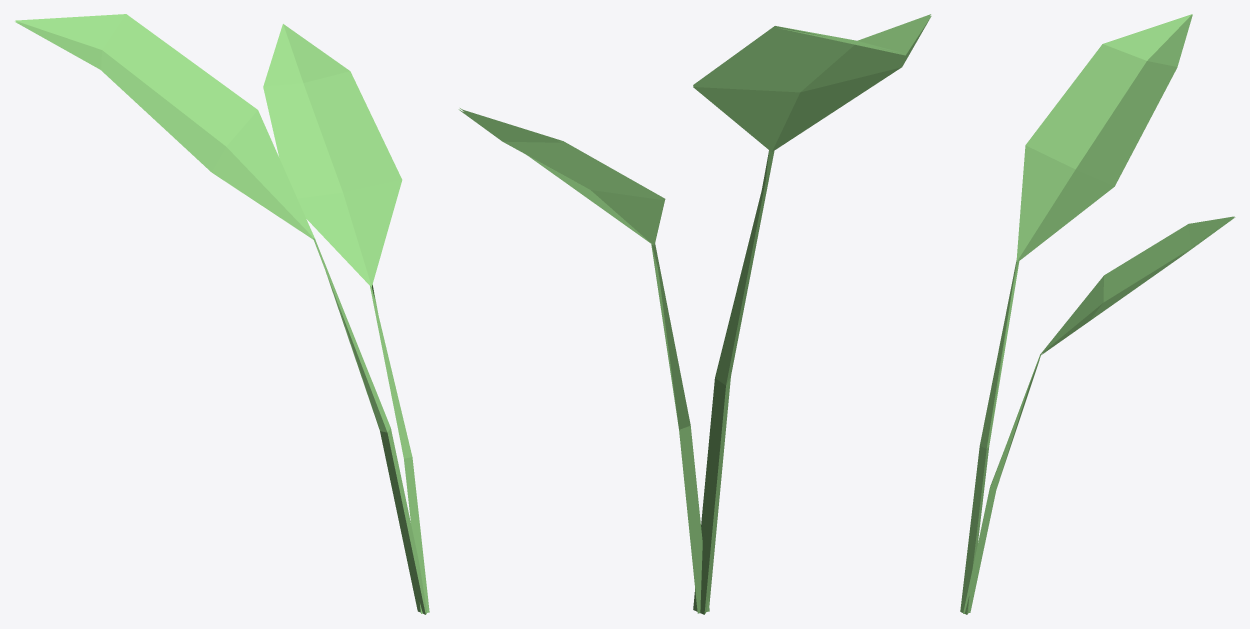
The model's file is Plant_j_TwoS_02.fbx.
3 renders of one model, left to right at view 1: azimuth 30°, elevation 25°; view 2: azimuth 150°, elevation 25°; view 3: azimuth 270°, elevation 25°, orthographic. The views are drawn at different scales.
Visible parts, largest first — view 1: Plant_j_TwoS_02; view 2: Plant_j_TwoS_02; view 3: Plant_j_TwoS_02.
Part boxes in pixels (x1,y1,x2,y2): Plant_j_TwoS_02: (15,14,429,614); Plant_j_TwoS_02: (458,14,931,614); Plant_j_TwoS_02: (960,14,1235,614).
Bounding box in the file's own units: 30.11 × 49.25 × 25.49.
